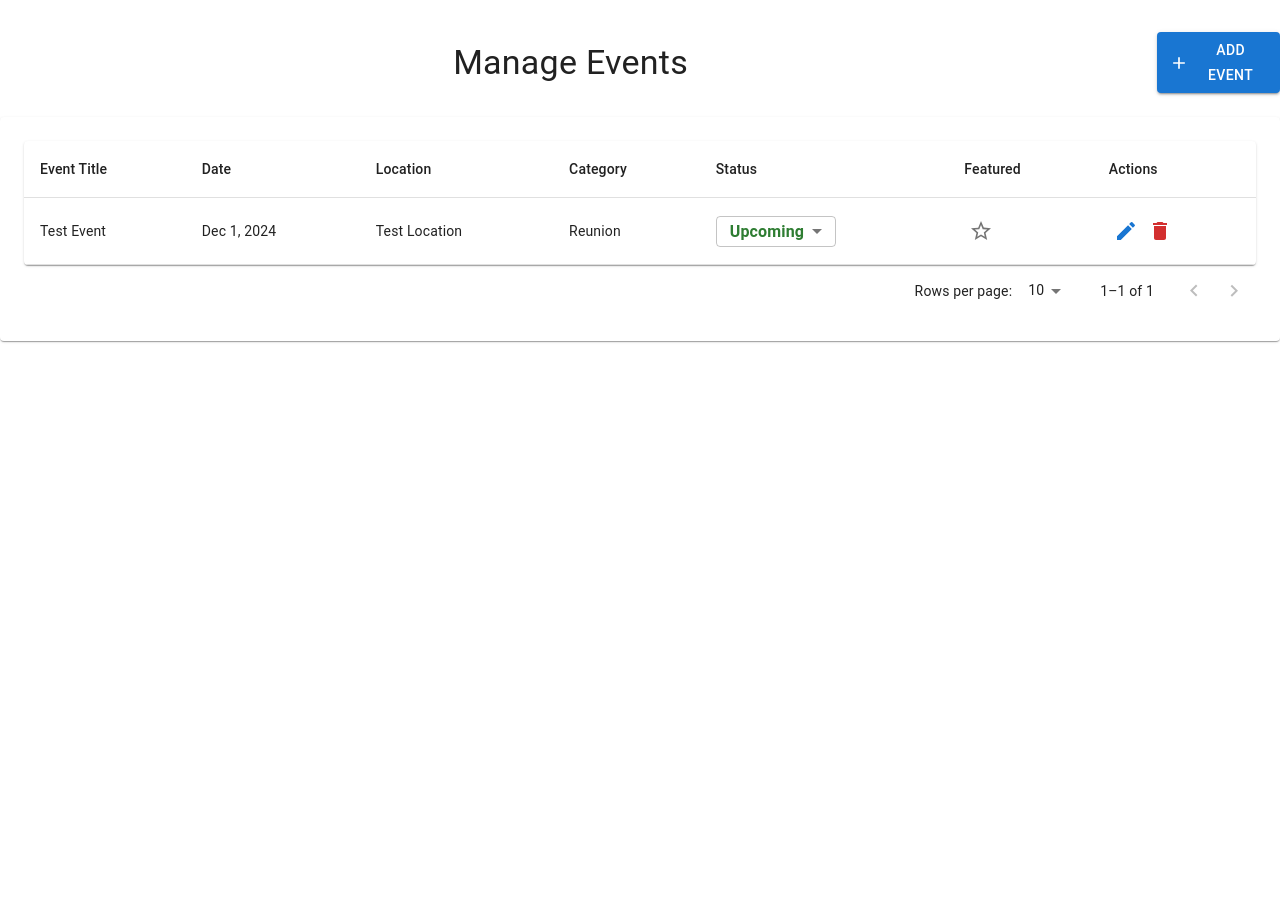
Test: AdminEventsPage - Edit Functionality › Requirement 3.1: Edit button opens EventFormDialog
Check: the text "Test Event" is shown, box [24, 198, 186, 264]
Find and click the Edit button
Click the button named "Edit Test Event". click: (1126, 231)
box: [1109, 214, 1143, 248]
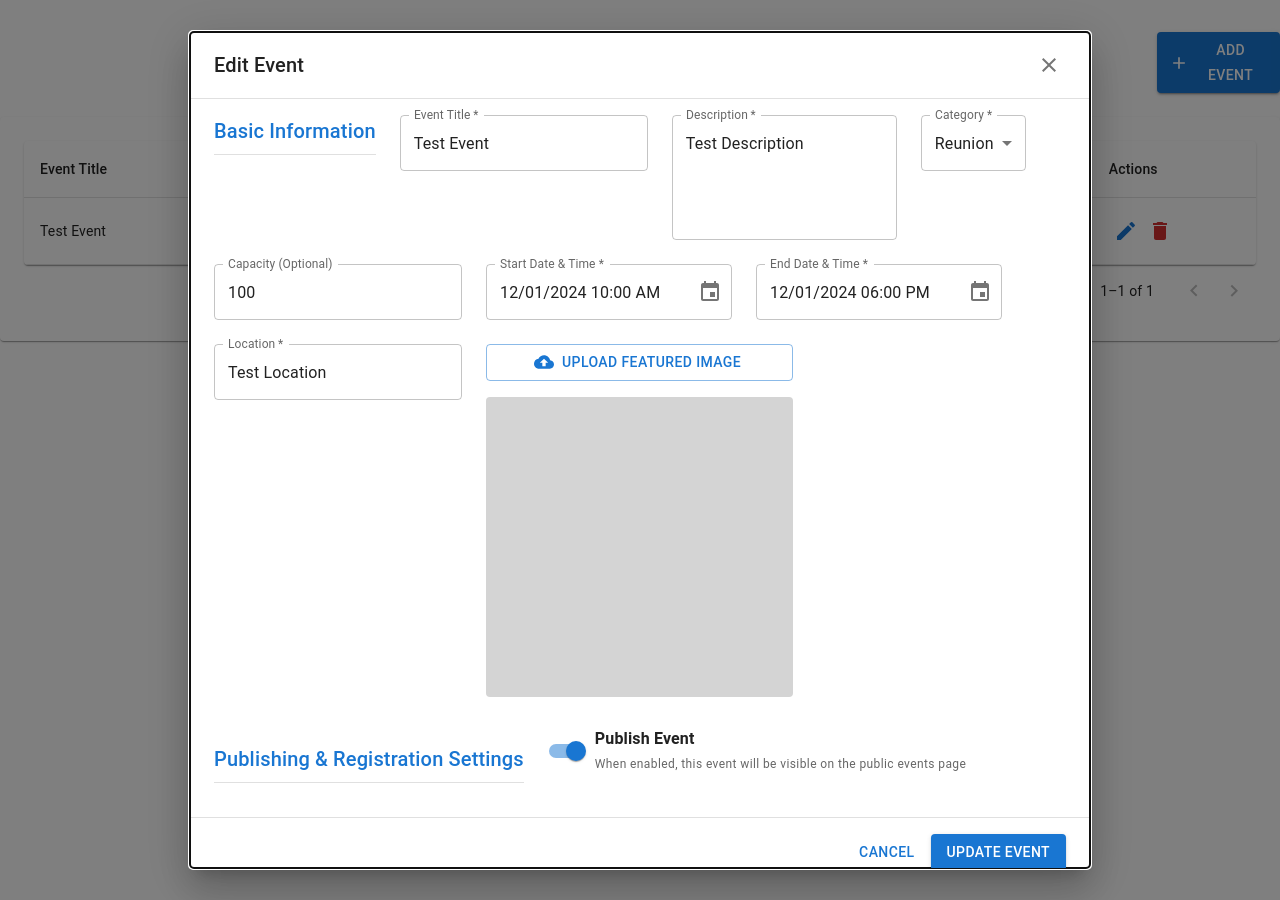
Check: the heading "Edit Event" is shown, box [214, 49, 304, 81]
